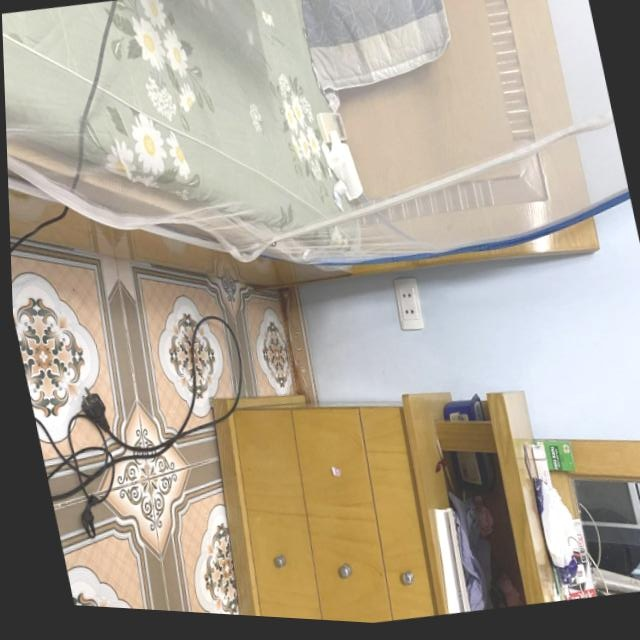outlet: (391, 274, 428, 332)
